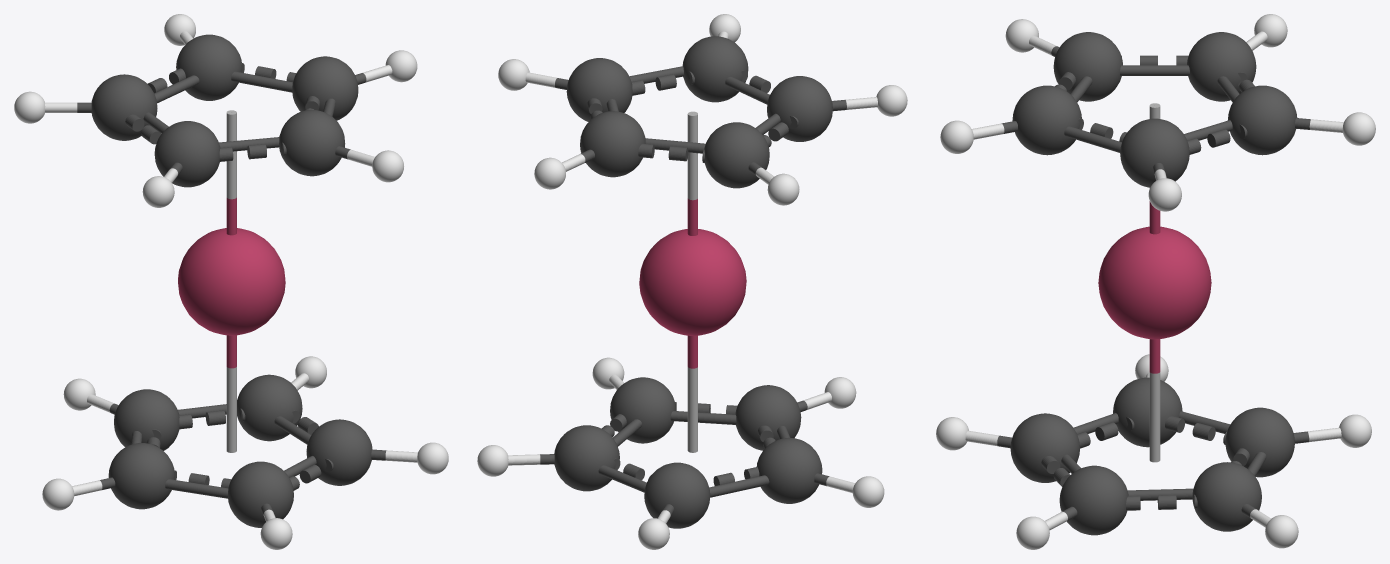
Rendered from ferrocene.fbx.
3 views of the same model, side by side, from view 1: azimuth 30°, elevation 25°; view 2: azimuth 150°, elevation 25°; view 3: azimuth 270°, elevation 25° (orthographic). The views are drawn at different scales.
Parts seen in each view (by area): view 1: Fe11, C05, C13, C04, C14, C12, C18, C02, C03, C16, C01, Fe11-?s22 (+16 smaller); view 2: Fe11, C03, C13, C02, C18, C16, C05, C04, C14, C12, C01, Fe11-?s22 (+17 smaller); view 3: Fe11, C02, C14, C18, C05, C01, C03, C12, C16, C04, C13, Fe11-?s22 (+19 smaller).
Part boxes in pixels (x1=…): Fe11: x1=178, y1=228, x2=285, y2=335; C05: x1=279, y1=109, x2=345, y2=176; C13: x1=108, y1=443, x2=174, y2=509; C04: x1=154, y1=121, x2=220, y2=187; C14: x1=306, y1=419, x2=372, y2=485; C12: x1=228, y1=461, x2=293, y2=527; C18: x1=237, y1=374, x2=302, y2=441; C02: x1=176, y1=34, x2=241, y2=100; C03: x1=91, y1=74, x2=157, y2=140; C16: x1=114, y1=389, x2=179, y2=450; C01: x1=292, y1=56, x2=358, y2=120; Fe11-?s22: x1=226, y1=335, x2=236, y2=452; Fe11: x1=639, y1=229, x2=746, y2=335; C03: x1=704, y1=122, x2=769, y2=188; C13: x1=756, y1=437, x2=822, y2=503; C02: x1=580, y1=111, x2=645, y2=177; C18: x1=554, y1=425, x2=619, y2=491; C16: x1=644, y1=462, x2=710, y2=528; C05: x1=682, y1=36, x2=748, y2=102; C04: x1=767, y1=76, x2=832, y2=141; C14: x1=610, y1=377, x2=675, y2=443; C12: x1=735, y1=385, x2=801, y2=450; C01: x1=566, y1=58, x2=632, y2=121; Fe11-?s22: x1=687, y1=335, x2=697, y2=452; Fe11: x1=1098, y1=226, x2=1211, y2=339; C02: x1=1227, y1=85, x2=1297, y2=155; C14: x1=1059, y1=465, x2=1128, y2=535; C18: x1=1192, y1=462, x2=1261, y2=531; C05: x1=1012, y1=85, x2=1081, y2=155; C01: x1=1120, y1=118, x2=1189, y2=187; C03: x1=1187, y1=32, x2=1256, y2=101; C12: x1=1010, y1=413, x2=1080, y2=482; C16: x1=1225, y1=407, x2=1294, y2=477; C04: x1=1053, y1=32, x2=1122, y2=101; C13: x1=1113, y1=377, x2=1182, y2=447; Fe11-?s22: x1=1149, y1=339, x2=1160, y2=462.
Size of the model in its own units: 504 by 509 by 486.
